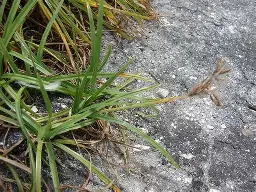weed: (0, 0, 228, 191)
